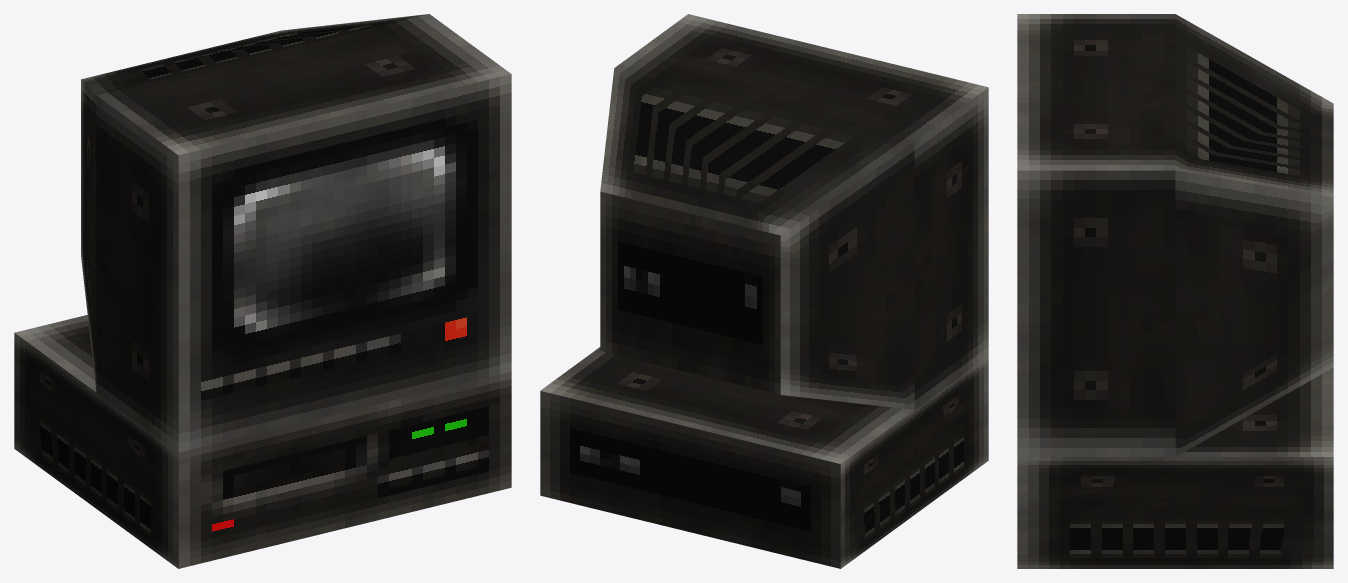
The picture shows the model from 3 angles, left to right: view 1: azimuth 30°, elevation 25°; view 2: azimuth 150°, elevation 25°; view 3: azimuth 270°, elevation 25°; orthographic projection. The views are drawn at different scales.
Parts seen in each view (by area): view 1: prim103-Telly+Video; view 2: prim103-Telly+Video; view 3: prim103-Telly+Video.
Part boxes in pixels (bbox=[...]): prim103-Telly+Video: bbox=[14, 14, 511, 568]; prim103-Telly+Video: bbox=[540, 14, 988, 568]; prim103-Telly+Video: bbox=[1017, 14, 1333, 568].
Bounding box in the file's own units: 75 × 89 × 64.
Materials: 2 (2 with a texture image).
